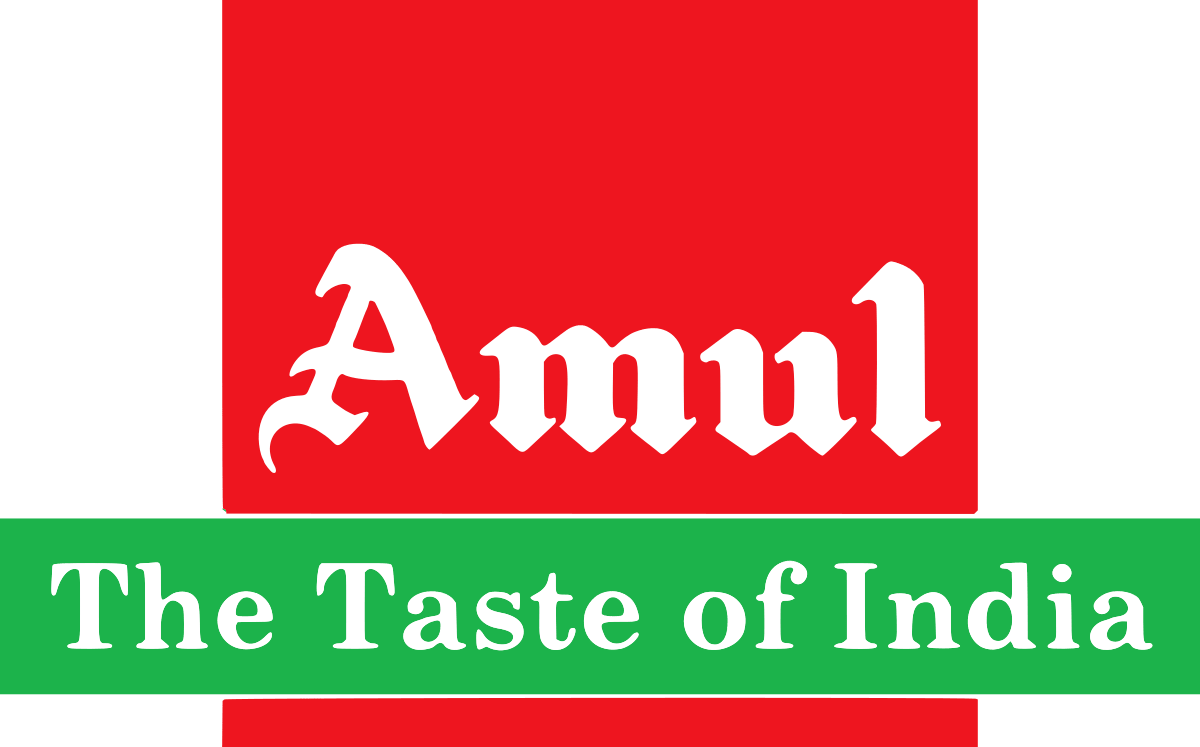Amul: (240, 235, 949, 513)
